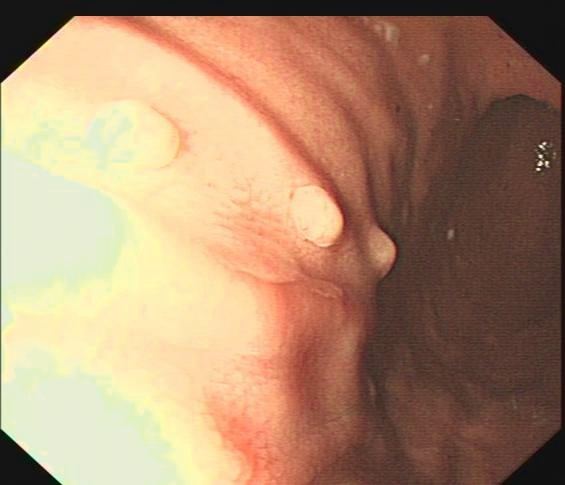Polyp: (79, 90, 189, 177), (285, 179, 349, 251)
